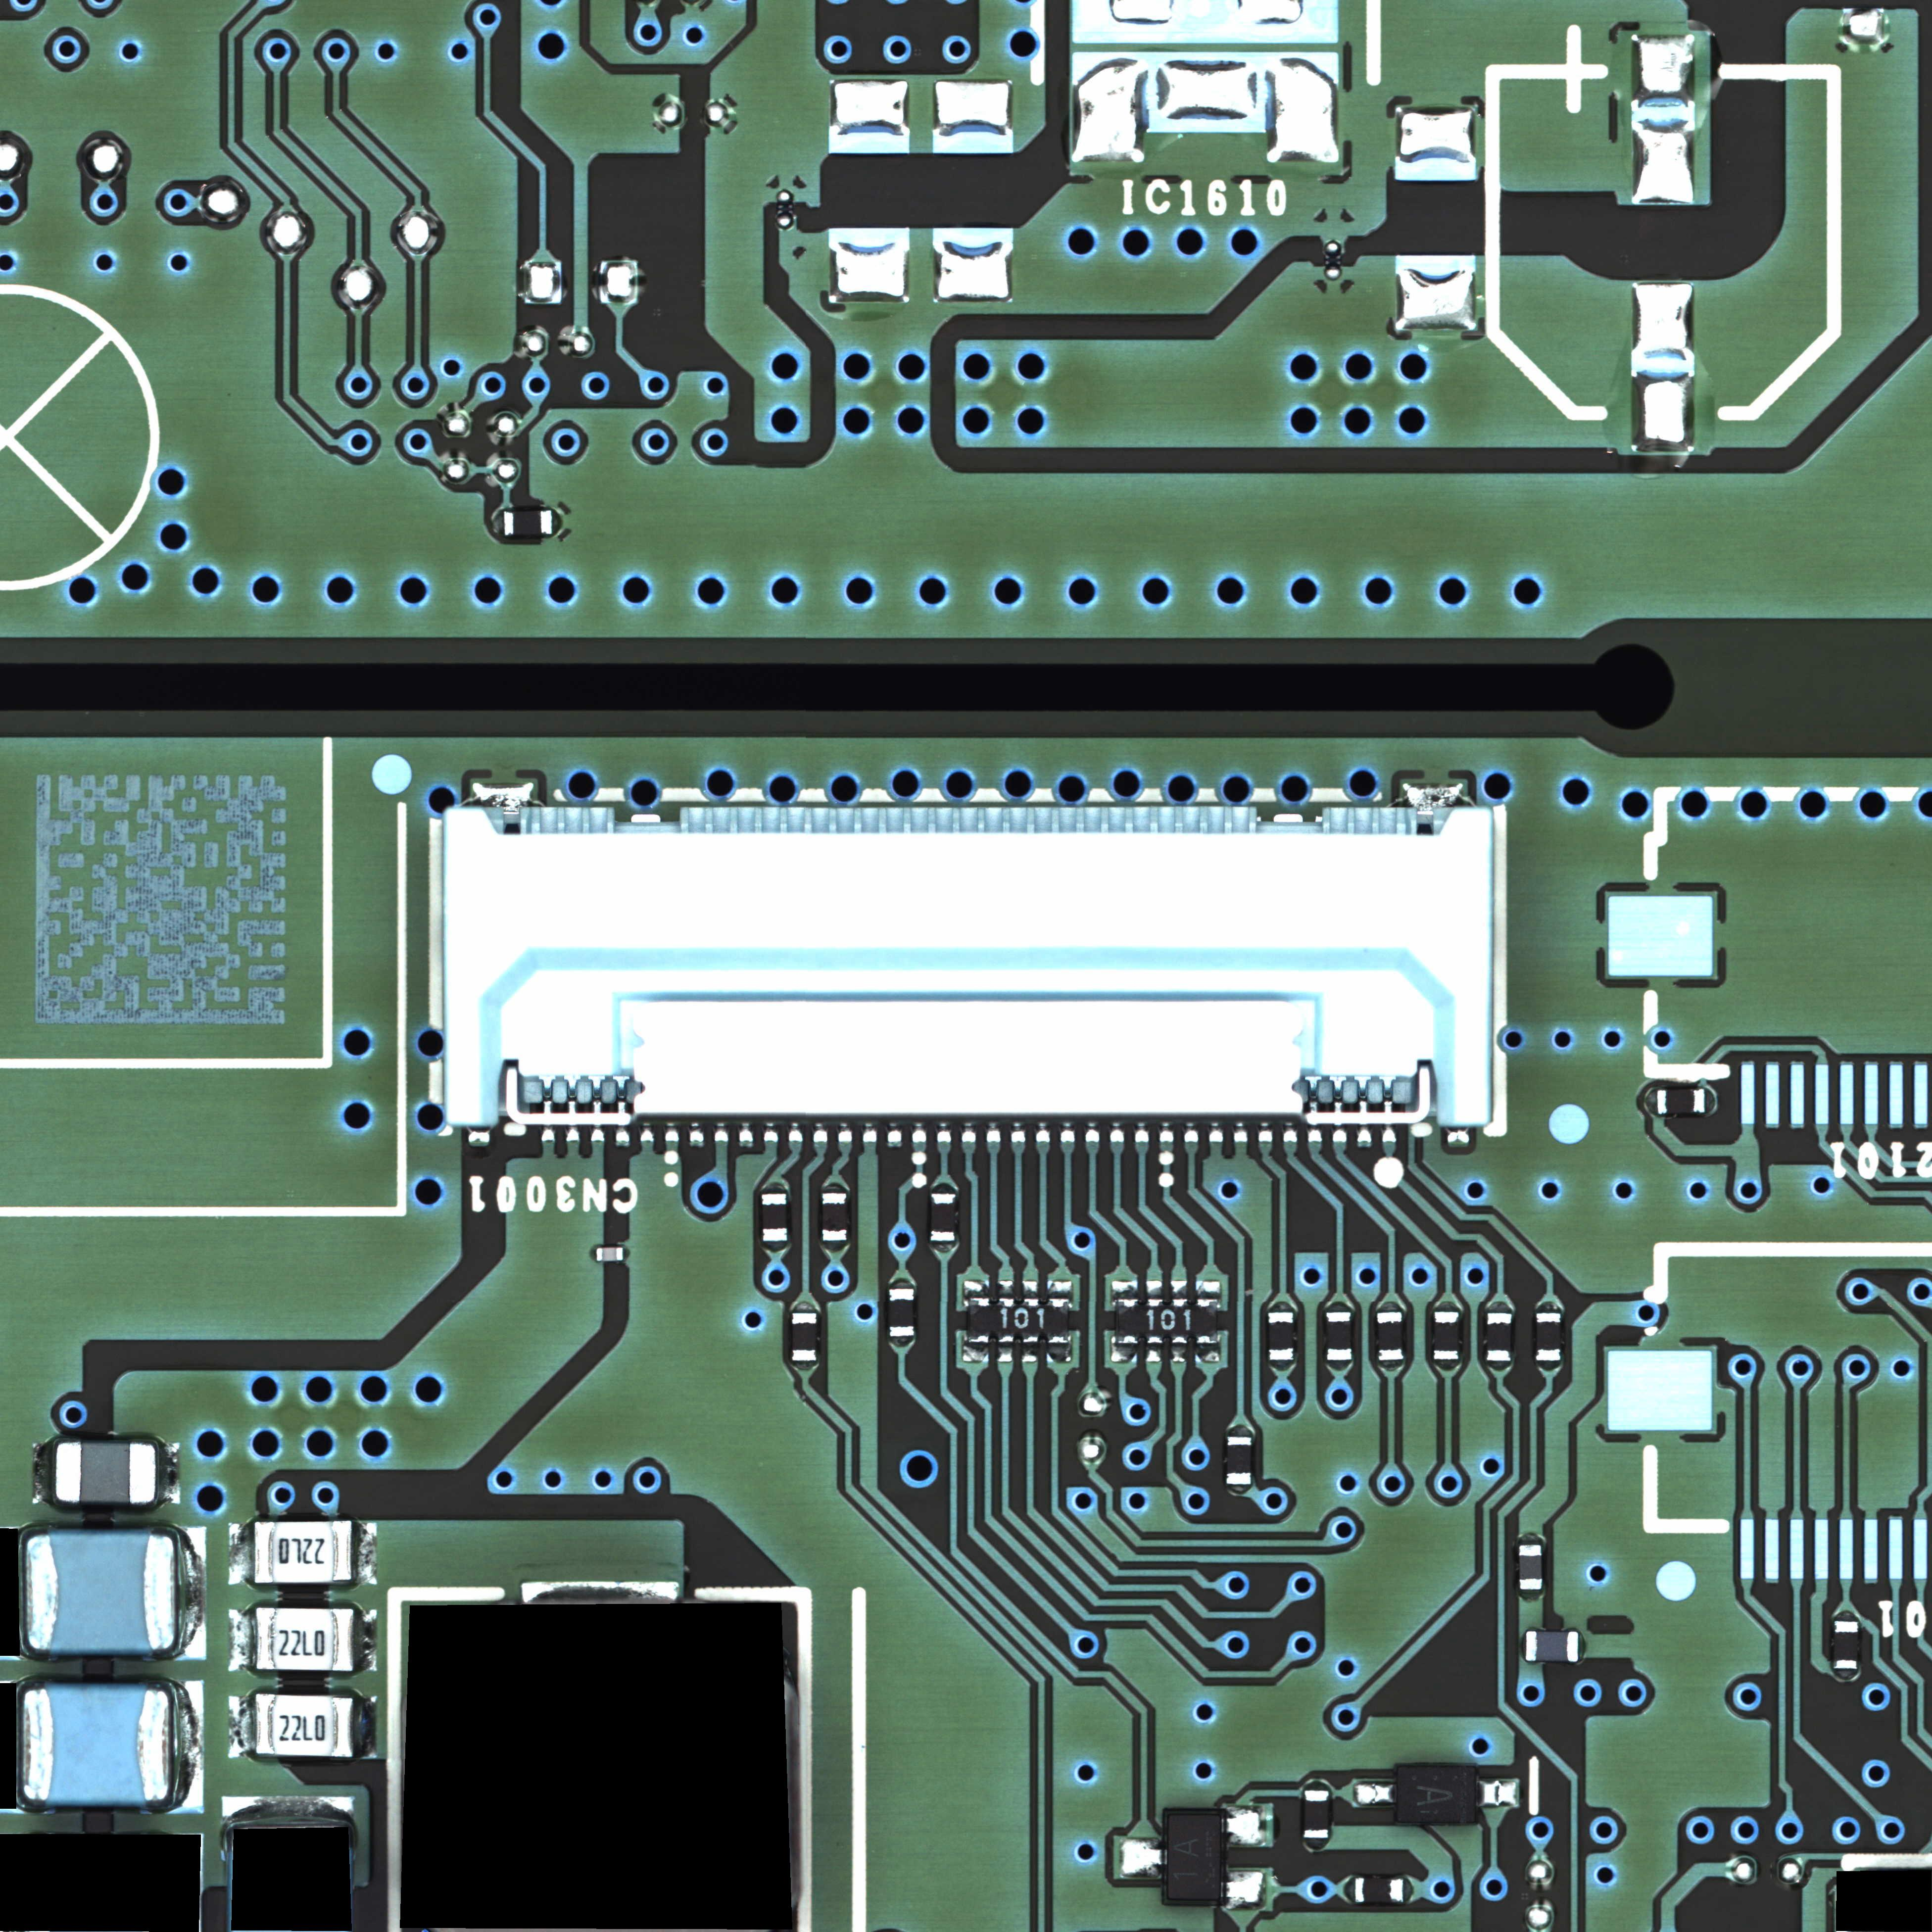Package: (25, 1529, 173, 1652), (23, 1684, 172, 1803), (255, 1693, 354, 1757), (257, 1606, 354, 1670), (55, 1444, 156, 1504), (253, 1523, 352, 1582), (1164, 1810, 1223, 1904), (1396, 1762, 1477, 1824), (968, 1299, 1069, 1343), (1116, 1302, 1217, 1343), (1527, 1631, 1578, 1661), (1376, 1313, 1405, 1361), (1433, 1311, 1461, 1359), (1226, 1437, 1253, 1484), (1536, 1313, 1562, 1361), (1486, 1313, 1513, 1361), (823, 1192, 849, 1240), (1304, 1790, 1330, 1838), (504, 510, 552, 536), (931, 1192, 957, 1240), (763, 1192, 787, 1242), (1327, 1313, 1352, 1361), (793, 1313, 817, 1361), (1269, 1313, 1293, 1361), (1355, 1877, 1403, 1902), (1833, 1621, 1858, 1668), (1658, 1090, 1706, 1115), (1518, 1545, 1543, 1591), (890, 1290, 915, 1336), (596, 1247, 623, 1261)
Solder: (175, 1527, 207, 1661), (175, 1679, 205, 1812), (221, 1794, 356, 1821), (520, 1580, 679, 1599), (228, 1608, 257, 1672), (1223, 1806, 1267, 1847), (1223, 1870, 1267, 1911), (1120, 1838, 1164, 1877), (228, 1697, 255, 1759), (228, 1523, 255, 1585), (354, 1522, 377, 1585), (157, 1444, 180, 1504), (356, 1697, 377, 1759), (356, 1610, 377, 1672), (34, 1442, 55, 1504), (1479, 1778, 1520, 1808), (1353, 1782, 1394, 1805), (1111, 1279, 1139, 1302), (1111, 1343, 1138, 1364), (962, 1343, 989, 1362), (1046, 1343, 1072, 1362), (1196, 1343, 1221, 1362), (1196, 1281, 1223, 1299), (1046, 1279, 1072, 1297), (962, 1281, 989, 1297), (1145, 1343, 1162, 1362), (1306, 1776, 1329, 1790), (1146, 1281, 1162, 1300), (1486, 1302, 1514, 1313), (1536, 1302, 1562, 1313), (761, 1182, 787, 1192), (1269, 1302, 1295, 1313), (1171, 1281, 1187, 1299), (1376, 1302, 1403, 1313), (998, 1345, 1014, 1362), (1021, 1345, 1037, 1362), (998, 1279, 1014, 1297), (1706, 1088, 1716, 1115), (1171, 1343, 1185, 1362), (793, 1302, 817, 1313), (1228, 1426, 1253, 1437), (1833, 1668, 1858, 1679), (763, 1242, 787, 1253), (1518, 1591, 1543, 1601), (1647, 1090, 1658, 1115), (1023, 1281, 1039, 1297), (1226, 1484, 1254, 1493), (1304, 1838, 1327, 1849), (888, 1279, 915, 1288), (1378, 1361, 1405, 1369), (1325, 1302, 1352, 1311), (888, 1338, 915, 1346), (1518, 1536, 1545, 1545), (1433, 1359, 1460, 1368), (1435, 1302, 1461, 1311), (1327, 1361, 1353, 1369), (552, 510, 561, 536), (823, 1242, 849, 1251), (823, 1184, 849, 1192), (1269, 1361, 1295, 1369), (1536, 1361, 1562, 1369), (1486, 1361, 1511, 1369), (793, 1361, 817, 1369), (1346, 1877, 1355, 1902), (1835, 1612, 1859, 1621), (1403, 1879, 1412, 1902), (1578, 1633, 1585, 1661), (495, 511, 502, 536), (1522, 1631, 1527, 1660), (623, 1247, 630, 1261), (589, 1247, 596, 1261)
